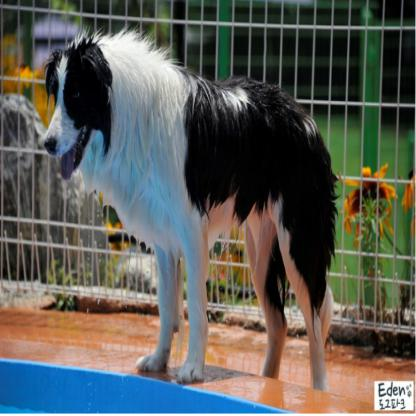dog: (37, 22, 346, 400)
